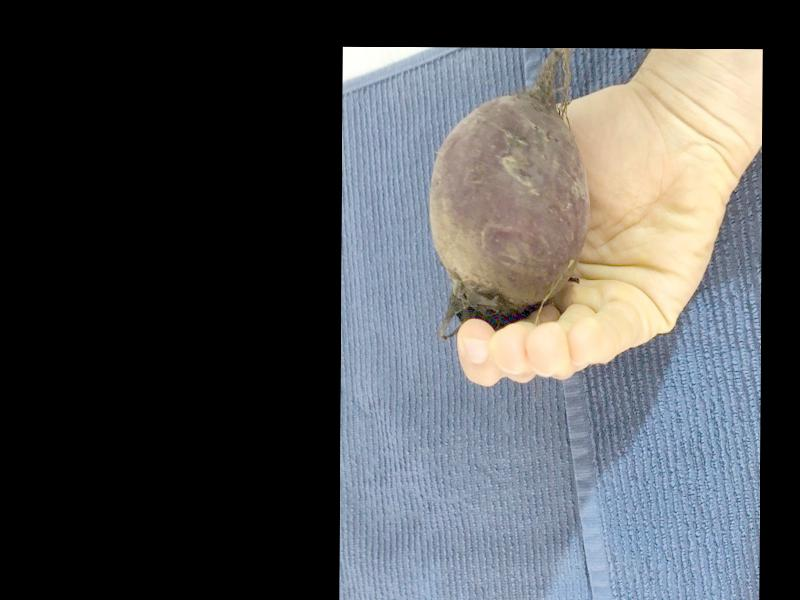Beet: (429, 50, 591, 344)
